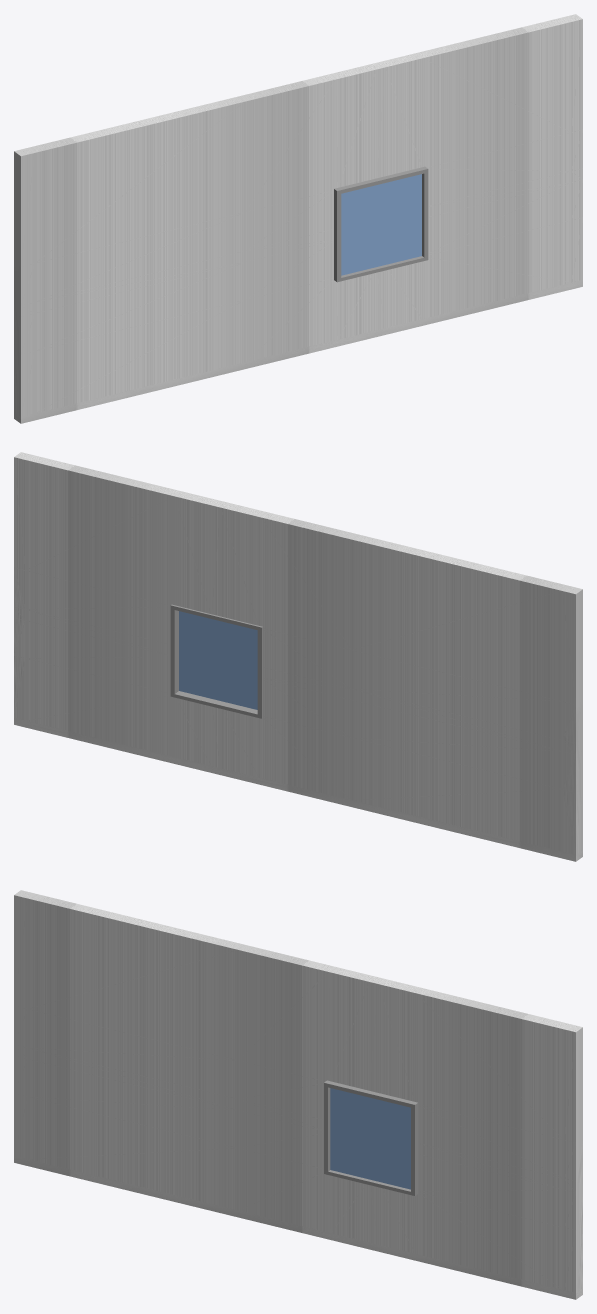
File: murFenêtre2.fbx
The picture shows the model from 3 angles, top to bottom: view 1: azimuth 30°, elevation 25°; view 2: azimuth 150°, elevation 25°; view 3: azimuth 330°, elevation 25°; orthographic projection.
Parts seen in each view (by area): view 1: msh_mûrFenêtre2; view 2: msh_mûrFenêtre2; view 3: msh_mûrFenêtre2.
Part boxes in pixels (x1,y1,x2,y2): msh_mûrFenêtre2: (14, 14, 582, 423); msh_mûrFenêtre2: (14, 452, 582, 861); msh_mûrFenêtre2: (14, 890, 582, 1299).
Bounding box in the file's own units: 55.19 × 25.11 × 1.9.
Materials: 3 (1 with a texture image).
